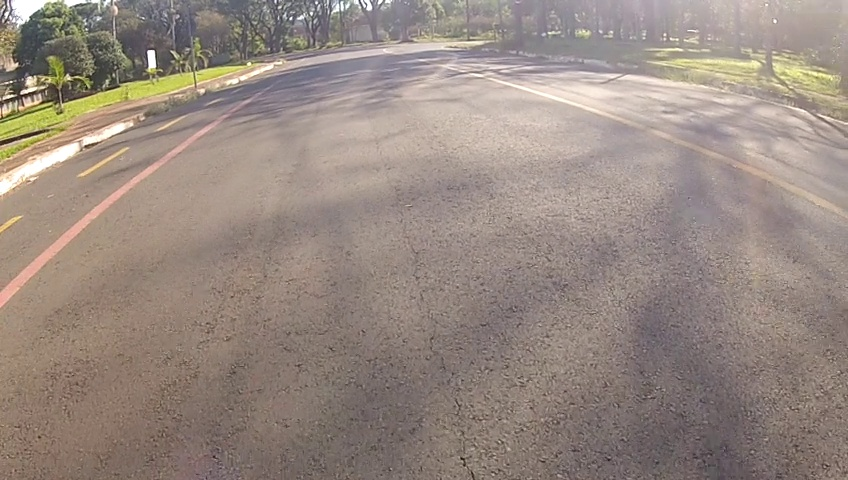TLT: (360, 127, 516, 480)
